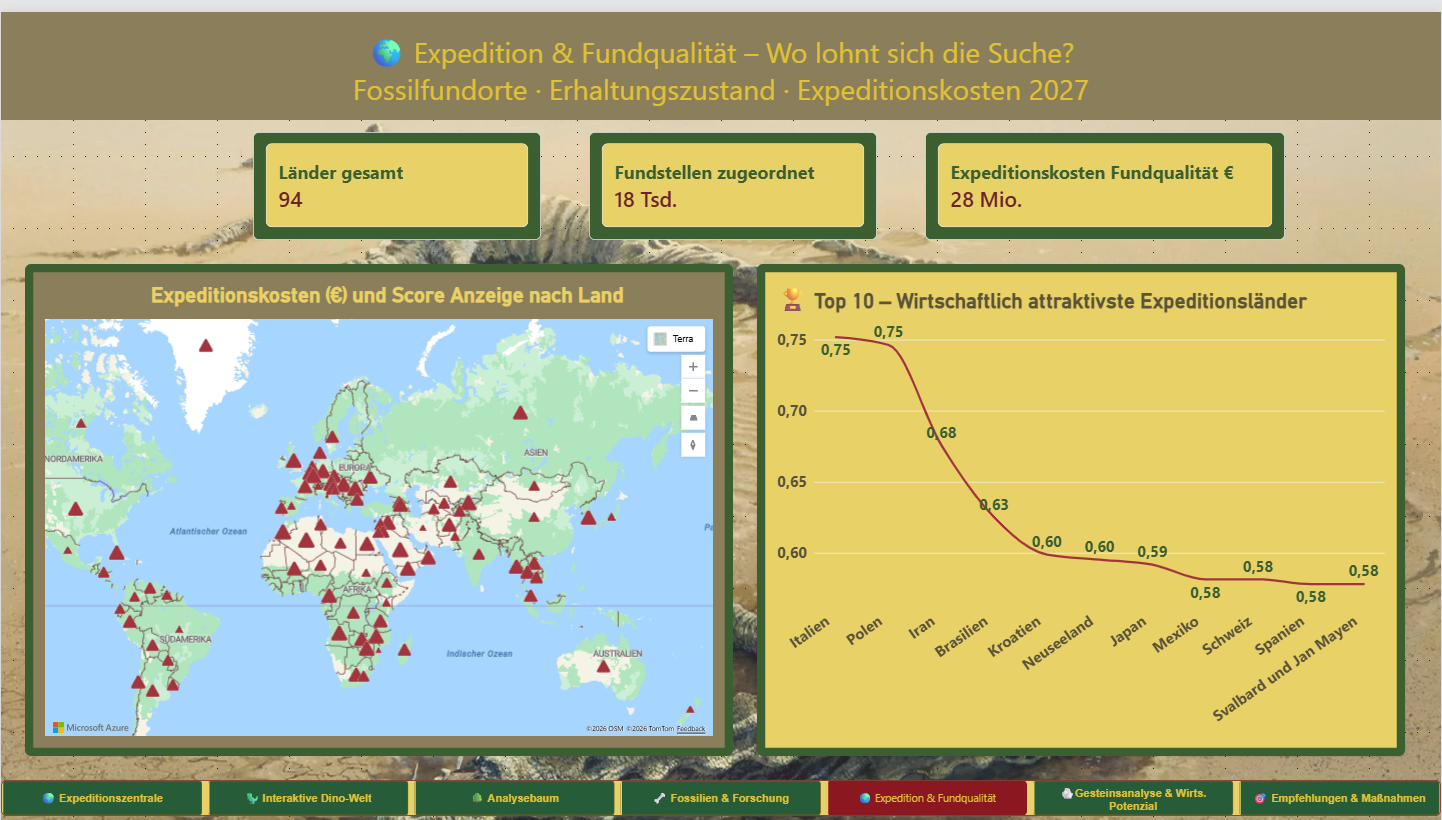

What the dashboard file says about the page in this screenshot:
{"tool":"powerbi","page":{"name":"🌍 Expedition & Fundqualität","canvas":[1920,1080],"ordinal":4},"visuals":[{"type":"azureMap","fields":{"Category":["Expeditionsbudget.Land"],"Size":["_Measures.Expeditionskosten je Land €"]},"box":[32,336,944,656],"z":0},{"type":"cardVisual","fields":{"Data":["_Measures.Länder gesamt"]},"box":[336,160,384,144],"z":1000},{"type":"cardVisual","fields":{"Data":["_Measures.Fundstellen zugeordnet"]},"box":[784,160,384,144],"z":2000},{"type":"cardVisual","fields":{"Data":["_Measures.Expeditionskosten Fundqualität Anzeige €"]},"box":[1232,160,480,144],"z":3000},{"type":"textbox","box":[0,0,1920,144],"z":4000},{"type":"lineChart","title":"🏆 Top 10 – Wirtschaftlich attraktivste Expeditionsländer","fields":{"Category":["Expeditionsbudget.Land"],"Y":["_Measures.Kostenbewerteter Expeditionsscore"]},"box":[1008,336,864,656],"z":5000},{"type":"pageNavigator","box":[0,1024,1920,48],"z":6000}]}

Visuals, with their boxes in screenshot pixels (x1, y1, x2, y2), scaled from the page's 1920x1080 canvas onto the 1442x820 screenshot:
azureMap - Expeditionsbudget.Land x _Measures.Expeditionskosten je Land €: pyautogui.locateOnScreen(24, 255, 733, 753)
cardVisual - _Measures.Länder gesamt: pyautogui.locateOnScreen(252, 121, 541, 231)
cardVisual - _Measures.Fundstellen zugeordnet: pyautogui.locateOnScreen(589, 121, 877, 231)
cardVisual - _Measures.Expeditionskosten Fundqualität Anzeige €: pyautogui.locateOnScreen(925, 121, 1286, 231)
textbox: pyautogui.locateOnScreen(0, 0, 1441, 109)
"🏆 Top 10 – Wirtschaftlich attraktivste Expeditionsländer" lineChart: pyautogui.locateOnScreen(757, 255, 1406, 753)
pageNavigator: pyautogui.locateOnScreen(0, 777, 1441, 814)
